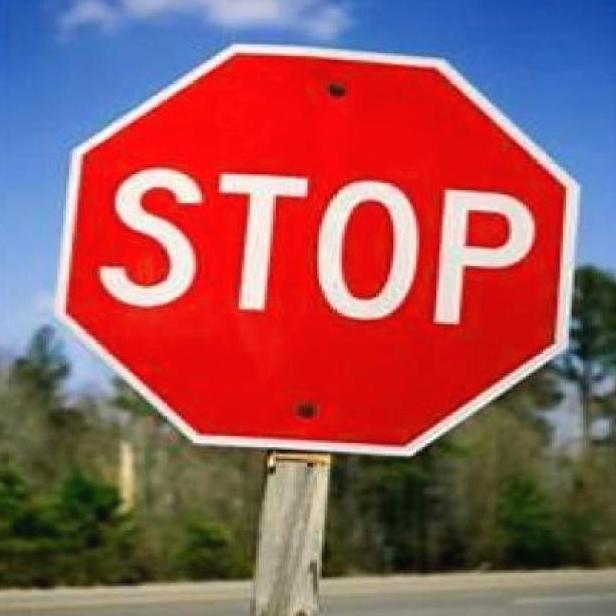stop_sign: (60, 39, 580, 458)
